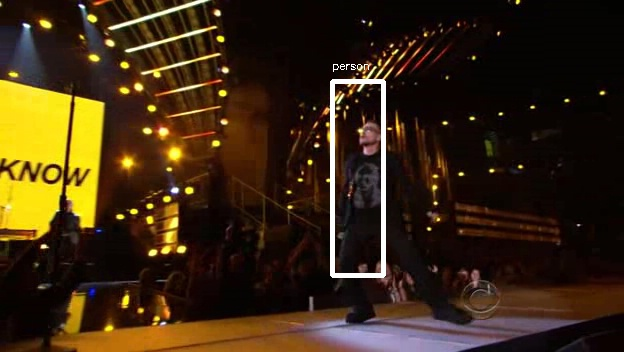person: (338, 121, 407, 237), (335, 121, 404, 237), (341, 121, 410, 237), (338, 118, 407, 234), (338, 124, 407, 240)
target_negative: (146, 41, 466, 338), (478, 100, 493, 349), (217, 9, 346, 28), (541, 312, 561, 333), (535, 264, 564, 273)
